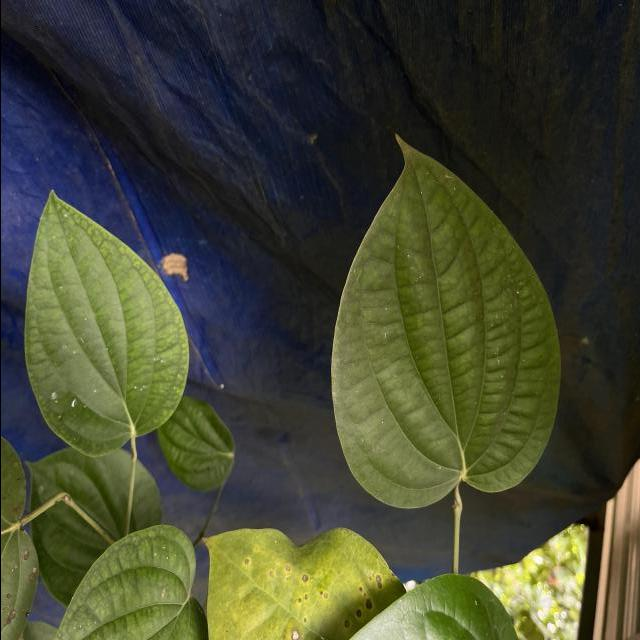Piper nigrum: (328, 129, 562, 511), (22, 185, 190, 459)
